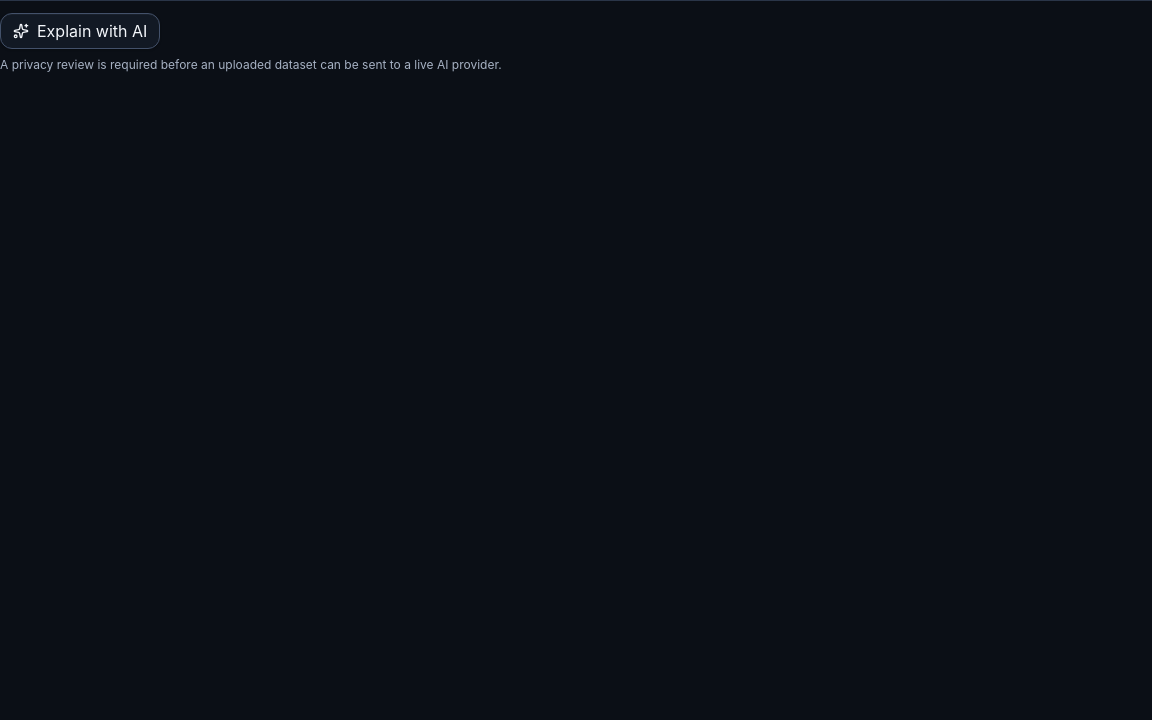
Test: AiExplanation › shows a privacy review for uploaded data without exposing private identifiers
The image size is (1152, 720).
Click the button "Explain with AI" at (80,31), box [0,13,160,49]
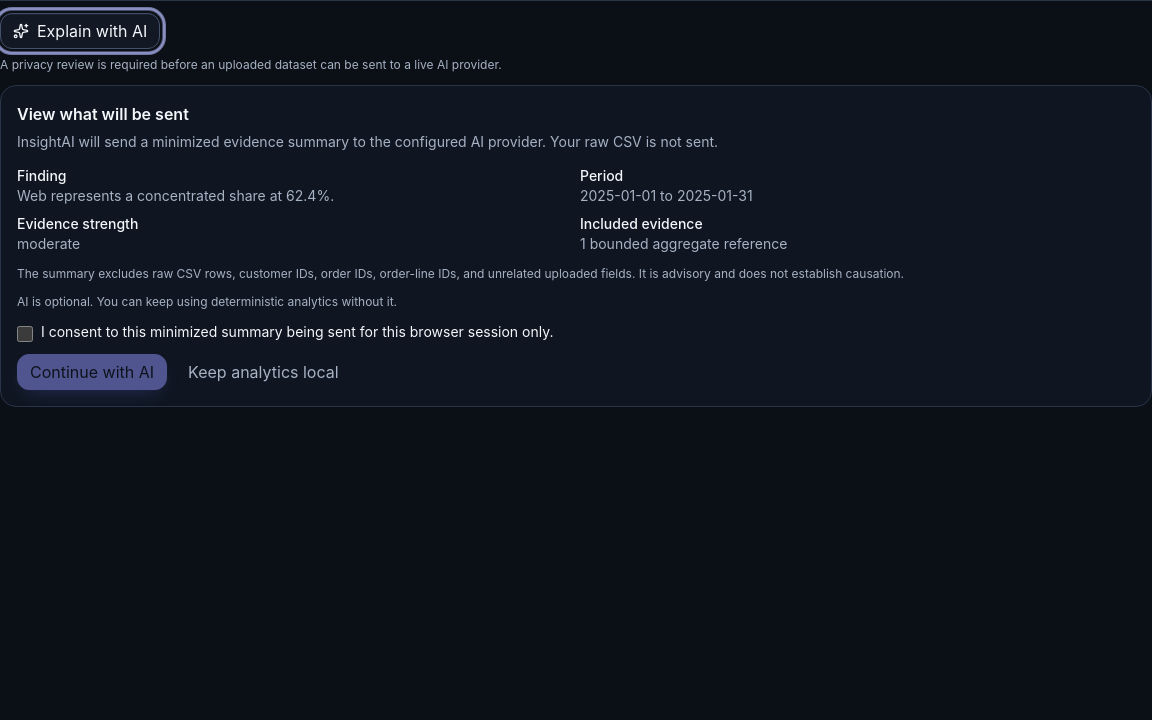
Expected: the dialog named "ai privacy review" is shown, [0,85,1151,407]
Expected: the text "View what will be sent" is shown, [17,104,189,124]
Expected: the text "raw csv is not sent" is shown, [17,133,718,150]
Click the checkbox at (25,334), box [17,326,33,342]
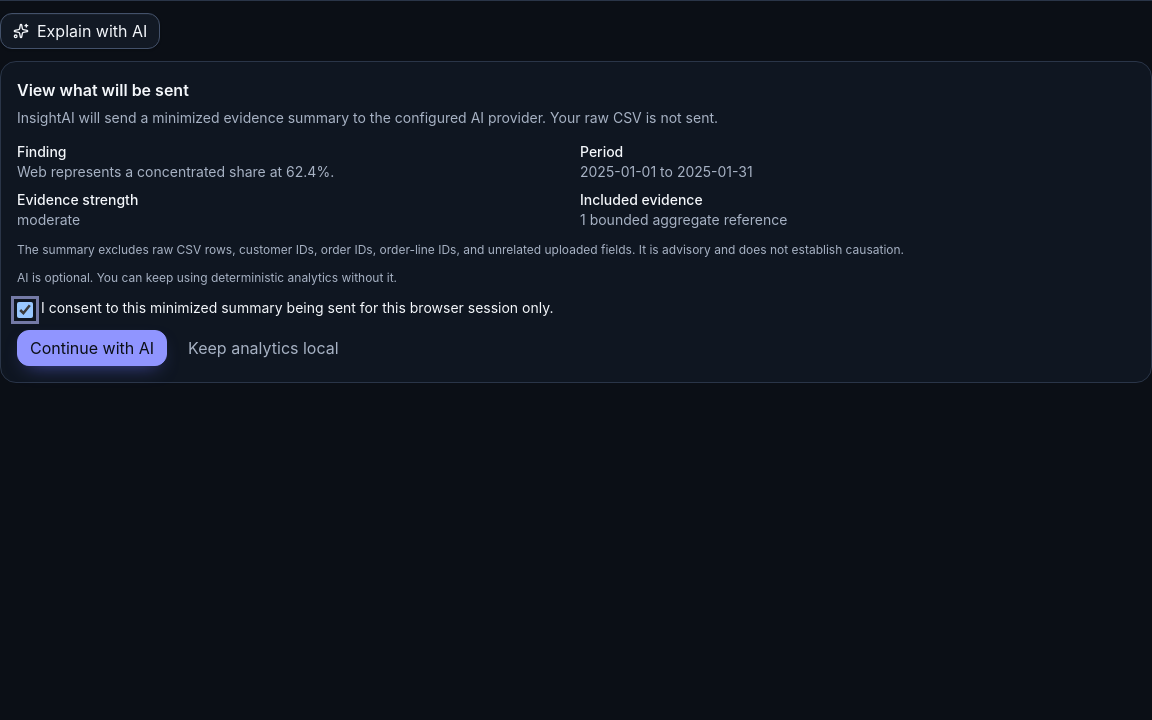
Expected: the button "Continue with AI" is enabled, [17,330,167,366]
